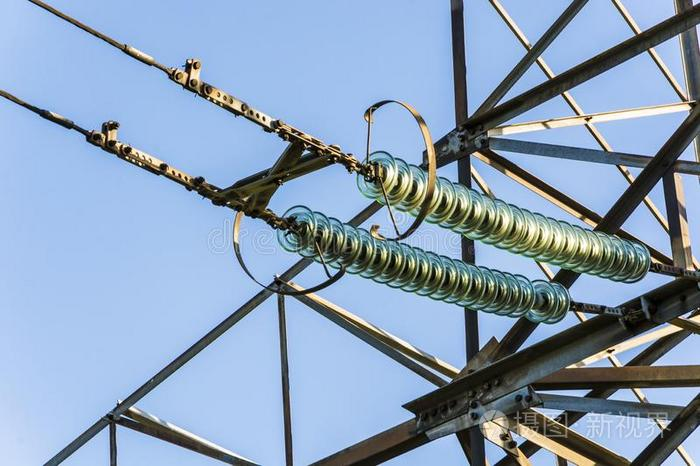insulator: (354, 149, 652, 284), (276, 204, 571, 325)
